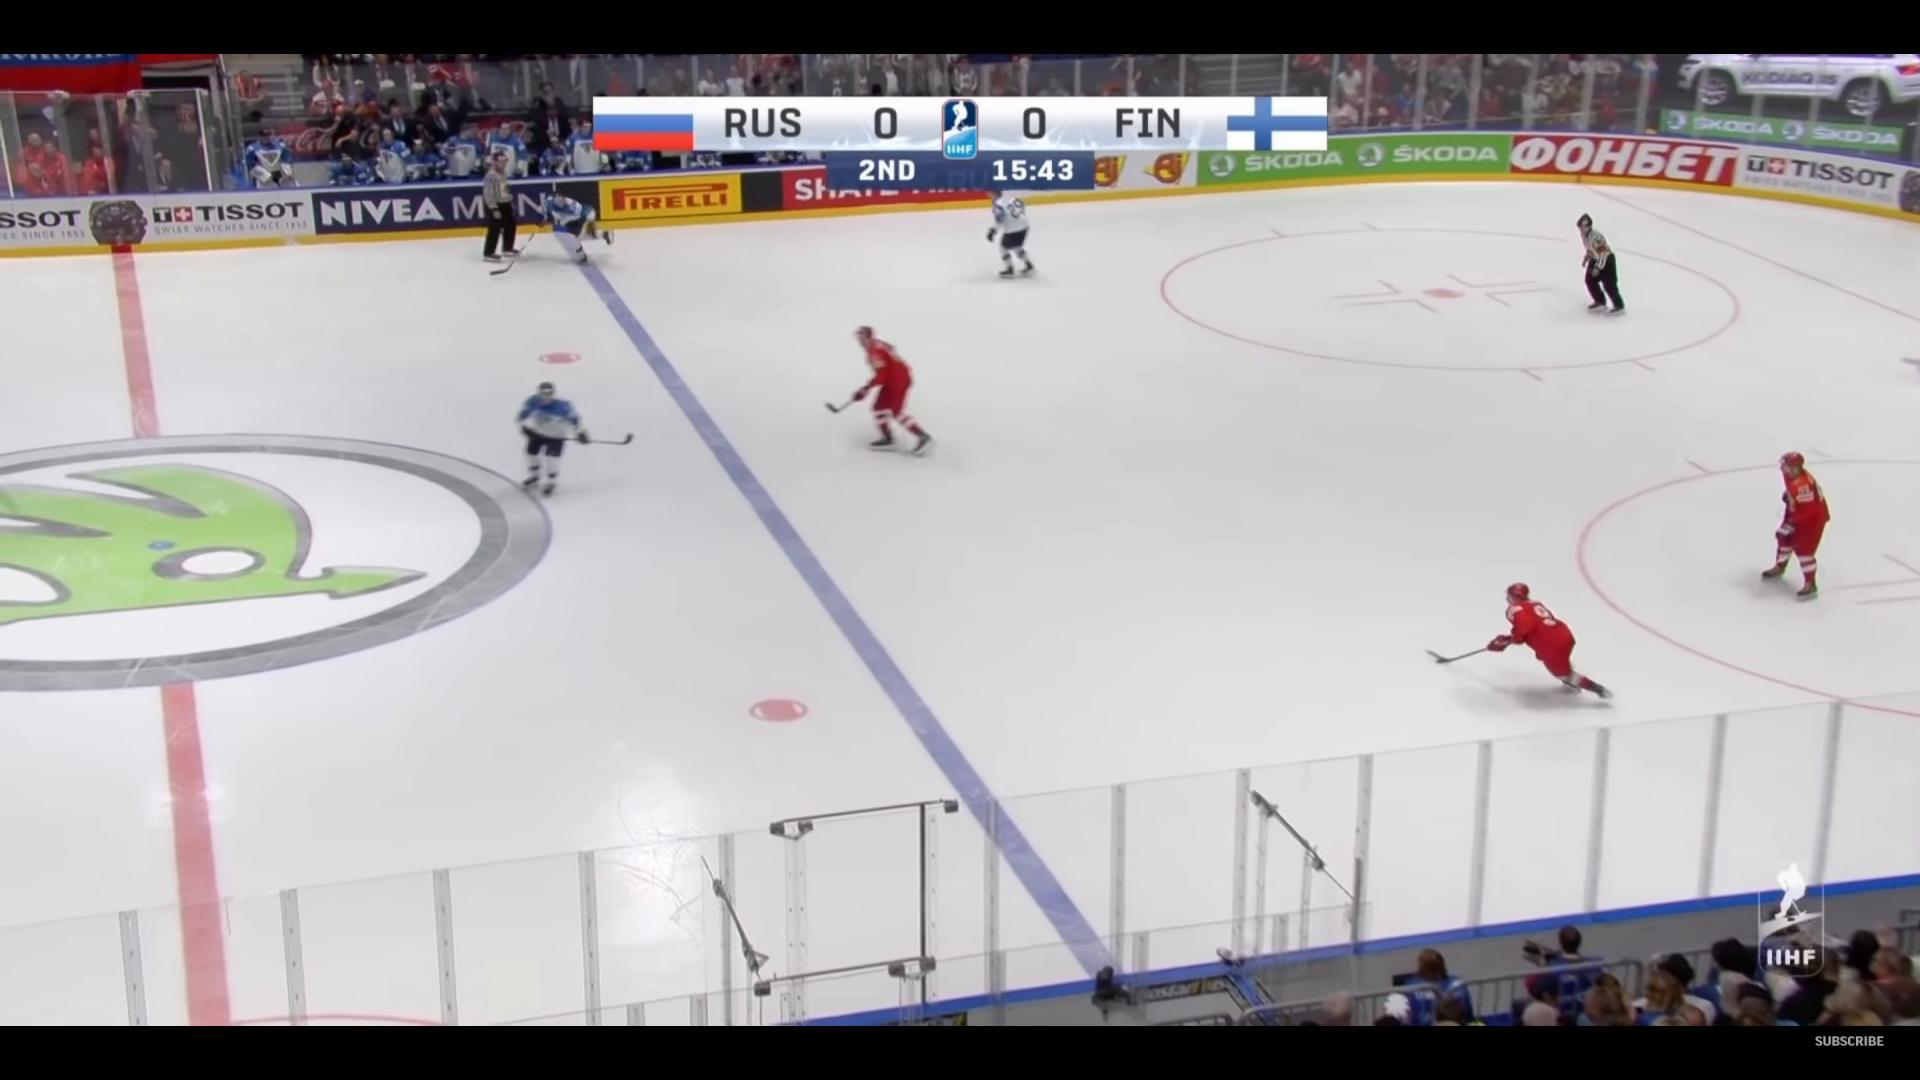puck: (1433, 658, 1444, 663)
